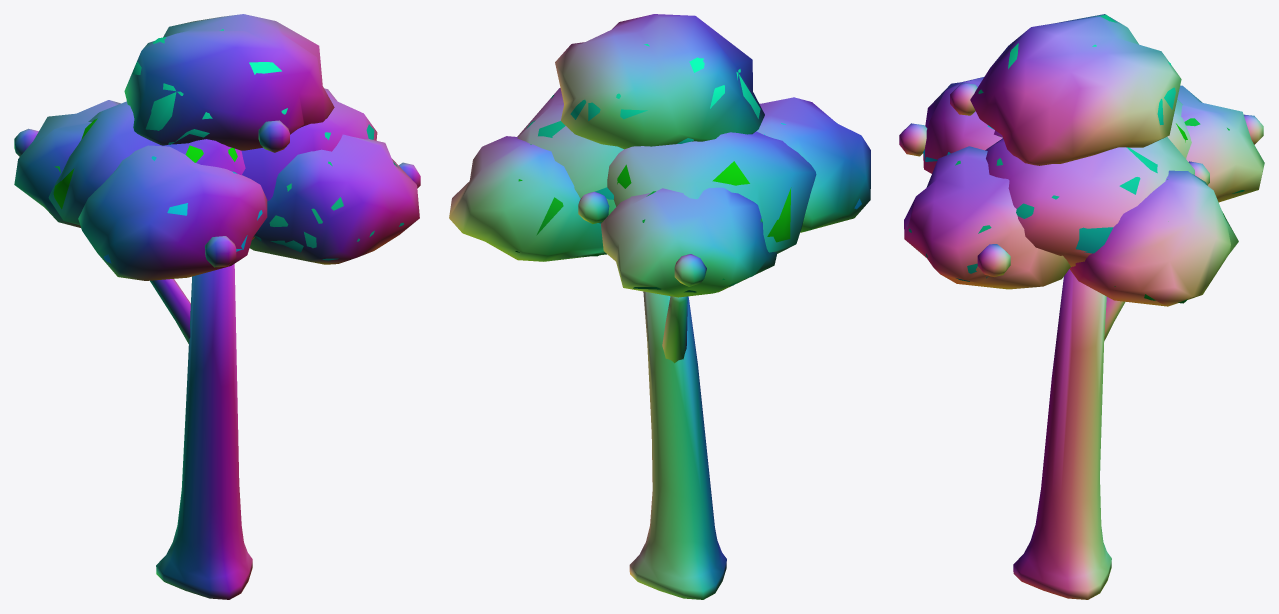
Rendered from SM_Foliage_Plains_FruitTree_B_LOD1.fbx.
3 views of the same model, side by side, from view 1: azimuth 30°, elevation 25°; view 2: azimuth 150°, elevation 25°; view 3: azimuth 270°, elevation 25° (orthographic). The views are drawn at different scales.
Parts seen in each view (by area): view 1: SM_Foliage_Plains_FruitTree_B_LOD1; view 2: SM_Foliage_Plains_FruitTree_B_LOD1; view 3: SM_Foliage_Plains_FruitTree_B_LOD1.
Boxes of the visible parts, x1,y1,x2,y2 form: SM_Foliage_Plains_FruitTree_B_LOD1: (14, 14, 420, 599); SM_Foliage_Plains_FruitTree_B_LOD1: (449, 14, 870, 599); SM_Foliage_Plains_FruitTree_B_LOD1: (899, 14, 1264, 599).
Bounding box in the file's own units: 1.94 × 3.17 × 1.89.
